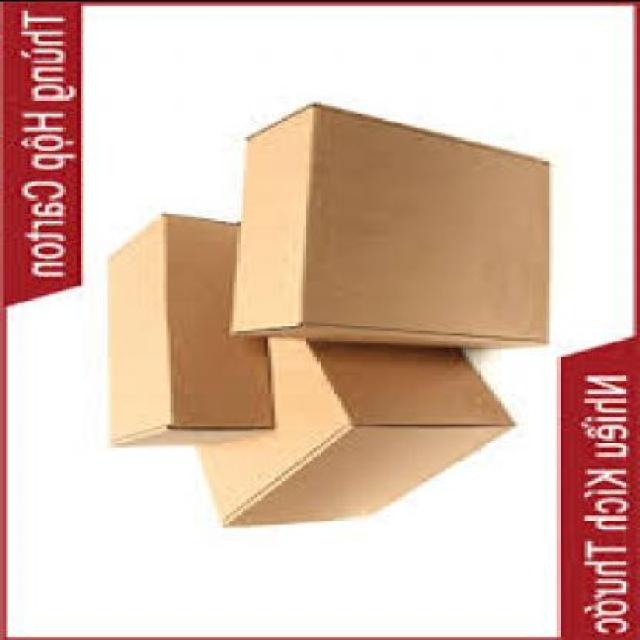CARDBOARD: (223, 98, 549, 345), (206, 339, 514, 523), (100, 210, 272, 442)
